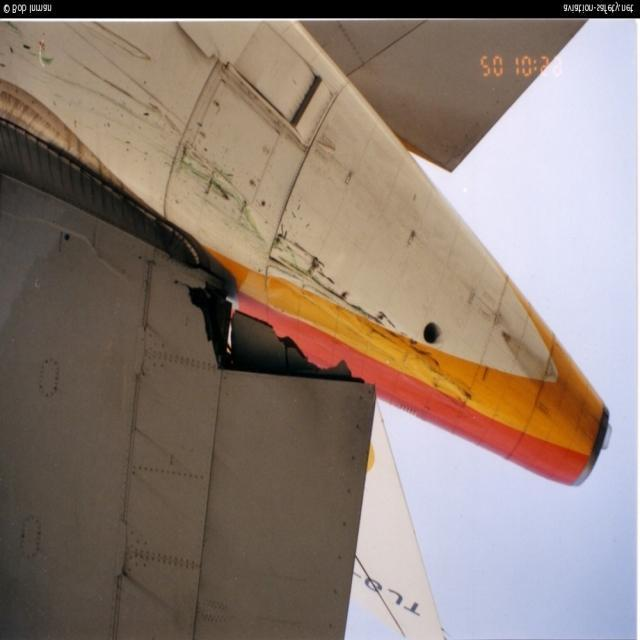crack: (168, 272, 378, 392)
